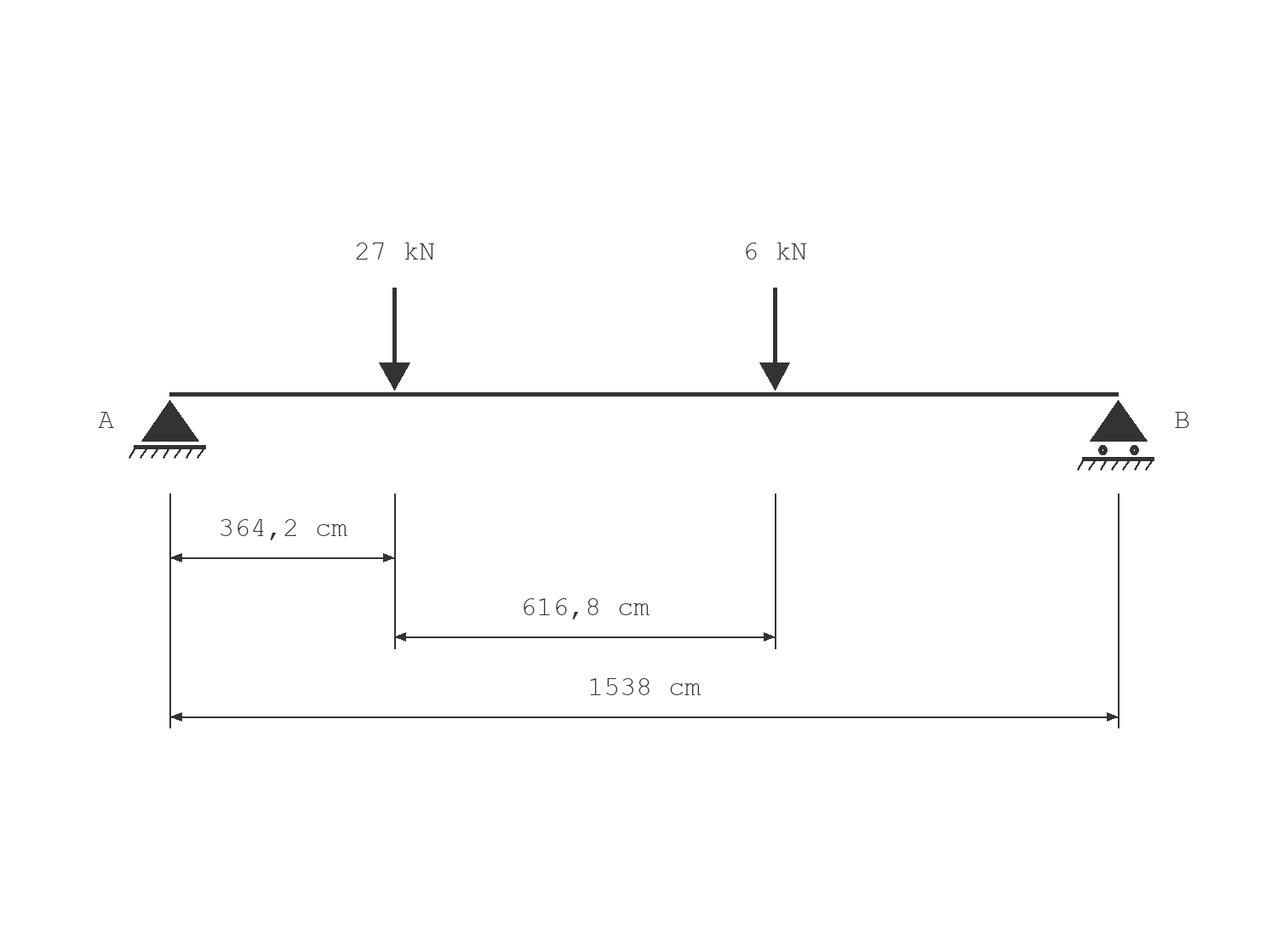pin_support: (129, 400, 206, 459)
point_load: (379, 288, 410, 391), (759, 288, 790, 391)
roller_support: (1077, 400, 1154, 471)
